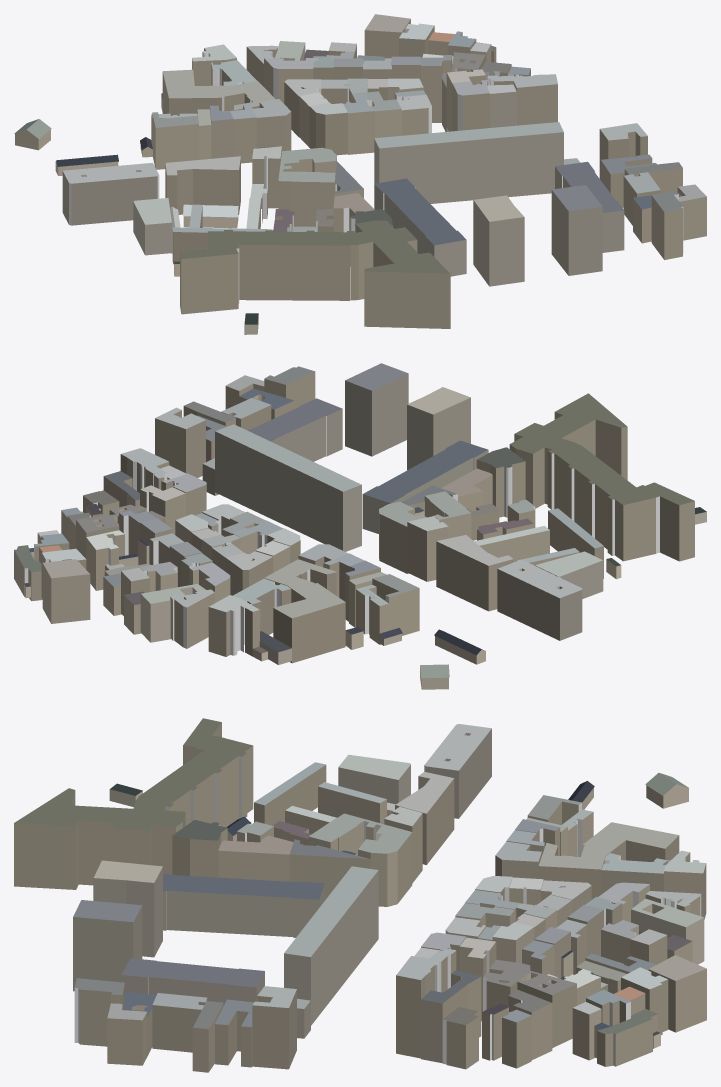
3 renders of one model, top to bottom at view 1: azimuth 30°, elevation 25°; view 2: azimuth 150°, elevation 25°; view 3: azimuth 270°, elevation 25°, orthographic. The views are drawn at different scales.
Parts seen in each view (by area): view 1: tuile; view 2: tuile; view 3: tuile.
Boxes of the visible parts, box(x1,y1,x2,y2) form: tuile: box(14, 14, 706, 334); tuile: box(14, 363, 706, 689); tuile: box(14, 718, 706, 1072).
Bounding box in the file's own units: 274 × 38.26 × 286.
